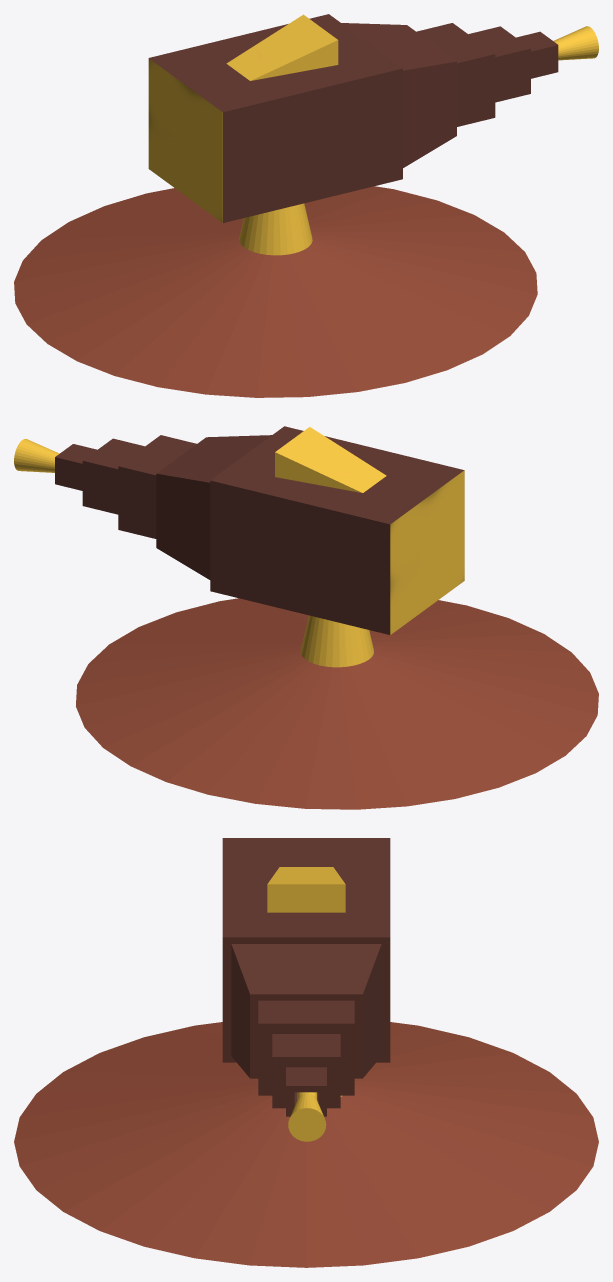
Rendered from cannon4.gltf.
The picture shows the model from 3 angles, top to bottom: view 1: azimuth 30°, elevation 25°; view 2: azimuth 150°, elevation 25°; view 3: azimuth 270°, elevation 25°; orthographic projection. The views are drawn at different scales.
Visible parts, largest first — view 1: Cone, Cube, Cube.001, Cylinder, Cylinder.005; view 2: Cone, Cube, Cube.001, Cylinder, Cylinder.005; view 3: Cone, Cube, Cube.001, Cylinder.005.
Part boxes in pixels (box(x1,y1,x2,y2)): Cone: box(14, 186, 537, 397); Cube: box(148, 14, 558, 222); Cube.001: box(226, 14, 338, 80); Cylinder: box(239, 203, 312, 255); Cylinder.005: box(553, 26, 598, 60); Cone: box(76, 598, 598, 809); Cube: box(55, 426, 464, 634); Cube.001: box(275, 427, 386, 492); Cylinder: box(300, 615, 373, 667); Cylinder.005: box(14, 439, 59, 472); Cone: box(14, 1022, 598, 1267); Cube: box(222, 838, 390, 1116); Cube.001: box(267, 867, 345, 912); Cylinder.005: box(288, 1092, 326, 1141).
Size of the model in its own units: 6.03 by 2.65 by 4.97.
Materials: 3 (3 with a texture image).
